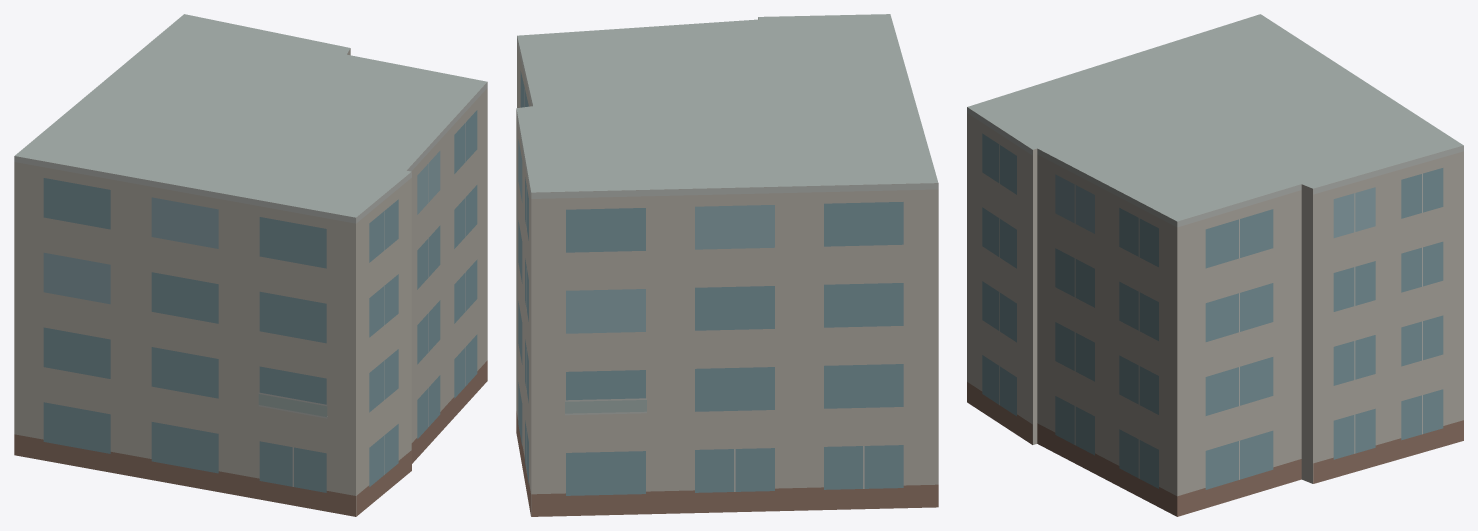
The model's file is survey-upis-32802132.glb.
3 renders of one model, left to right at view 1: azimuth 30°, elevation 25°; view 2: azimuth 150°, elevation 25°; view 3: azimuth 270°, elevation 25°, orthographic. The views are drawn at different scales.
Parts seen in each view (by area): view 1: survey-upis-32802132.tmp; view 2: survey-upis-32802132.tmp; view 3: survey-upis-32802132.tmp.
Boxes of the visible parts, box(x1,y1,x2,y2) form: survey-upis-32802132.tmp: box(14, 14, 487, 516); survey-upis-32802132.tmp: box(516, 14, 938, 516); survey-upis-32802132.tmp: box(967, 14, 1463, 516).
Size of the model in its own units: 18.4 by 12.2 by 18.61.
